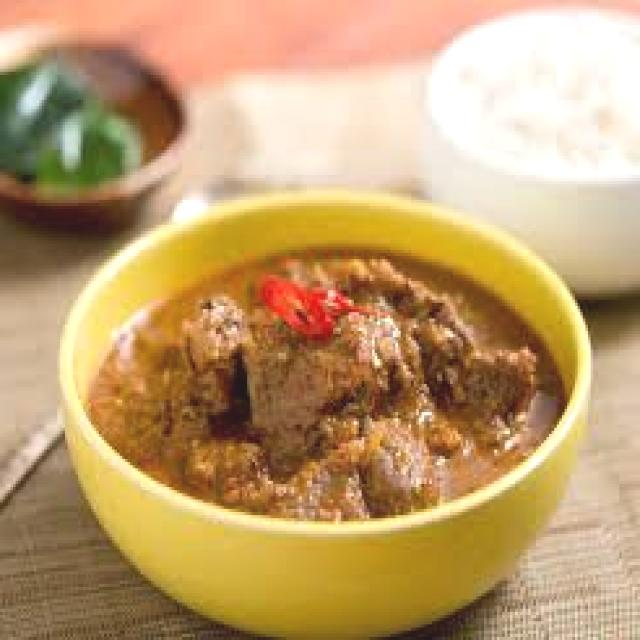rendang: (88, 253, 562, 524)
